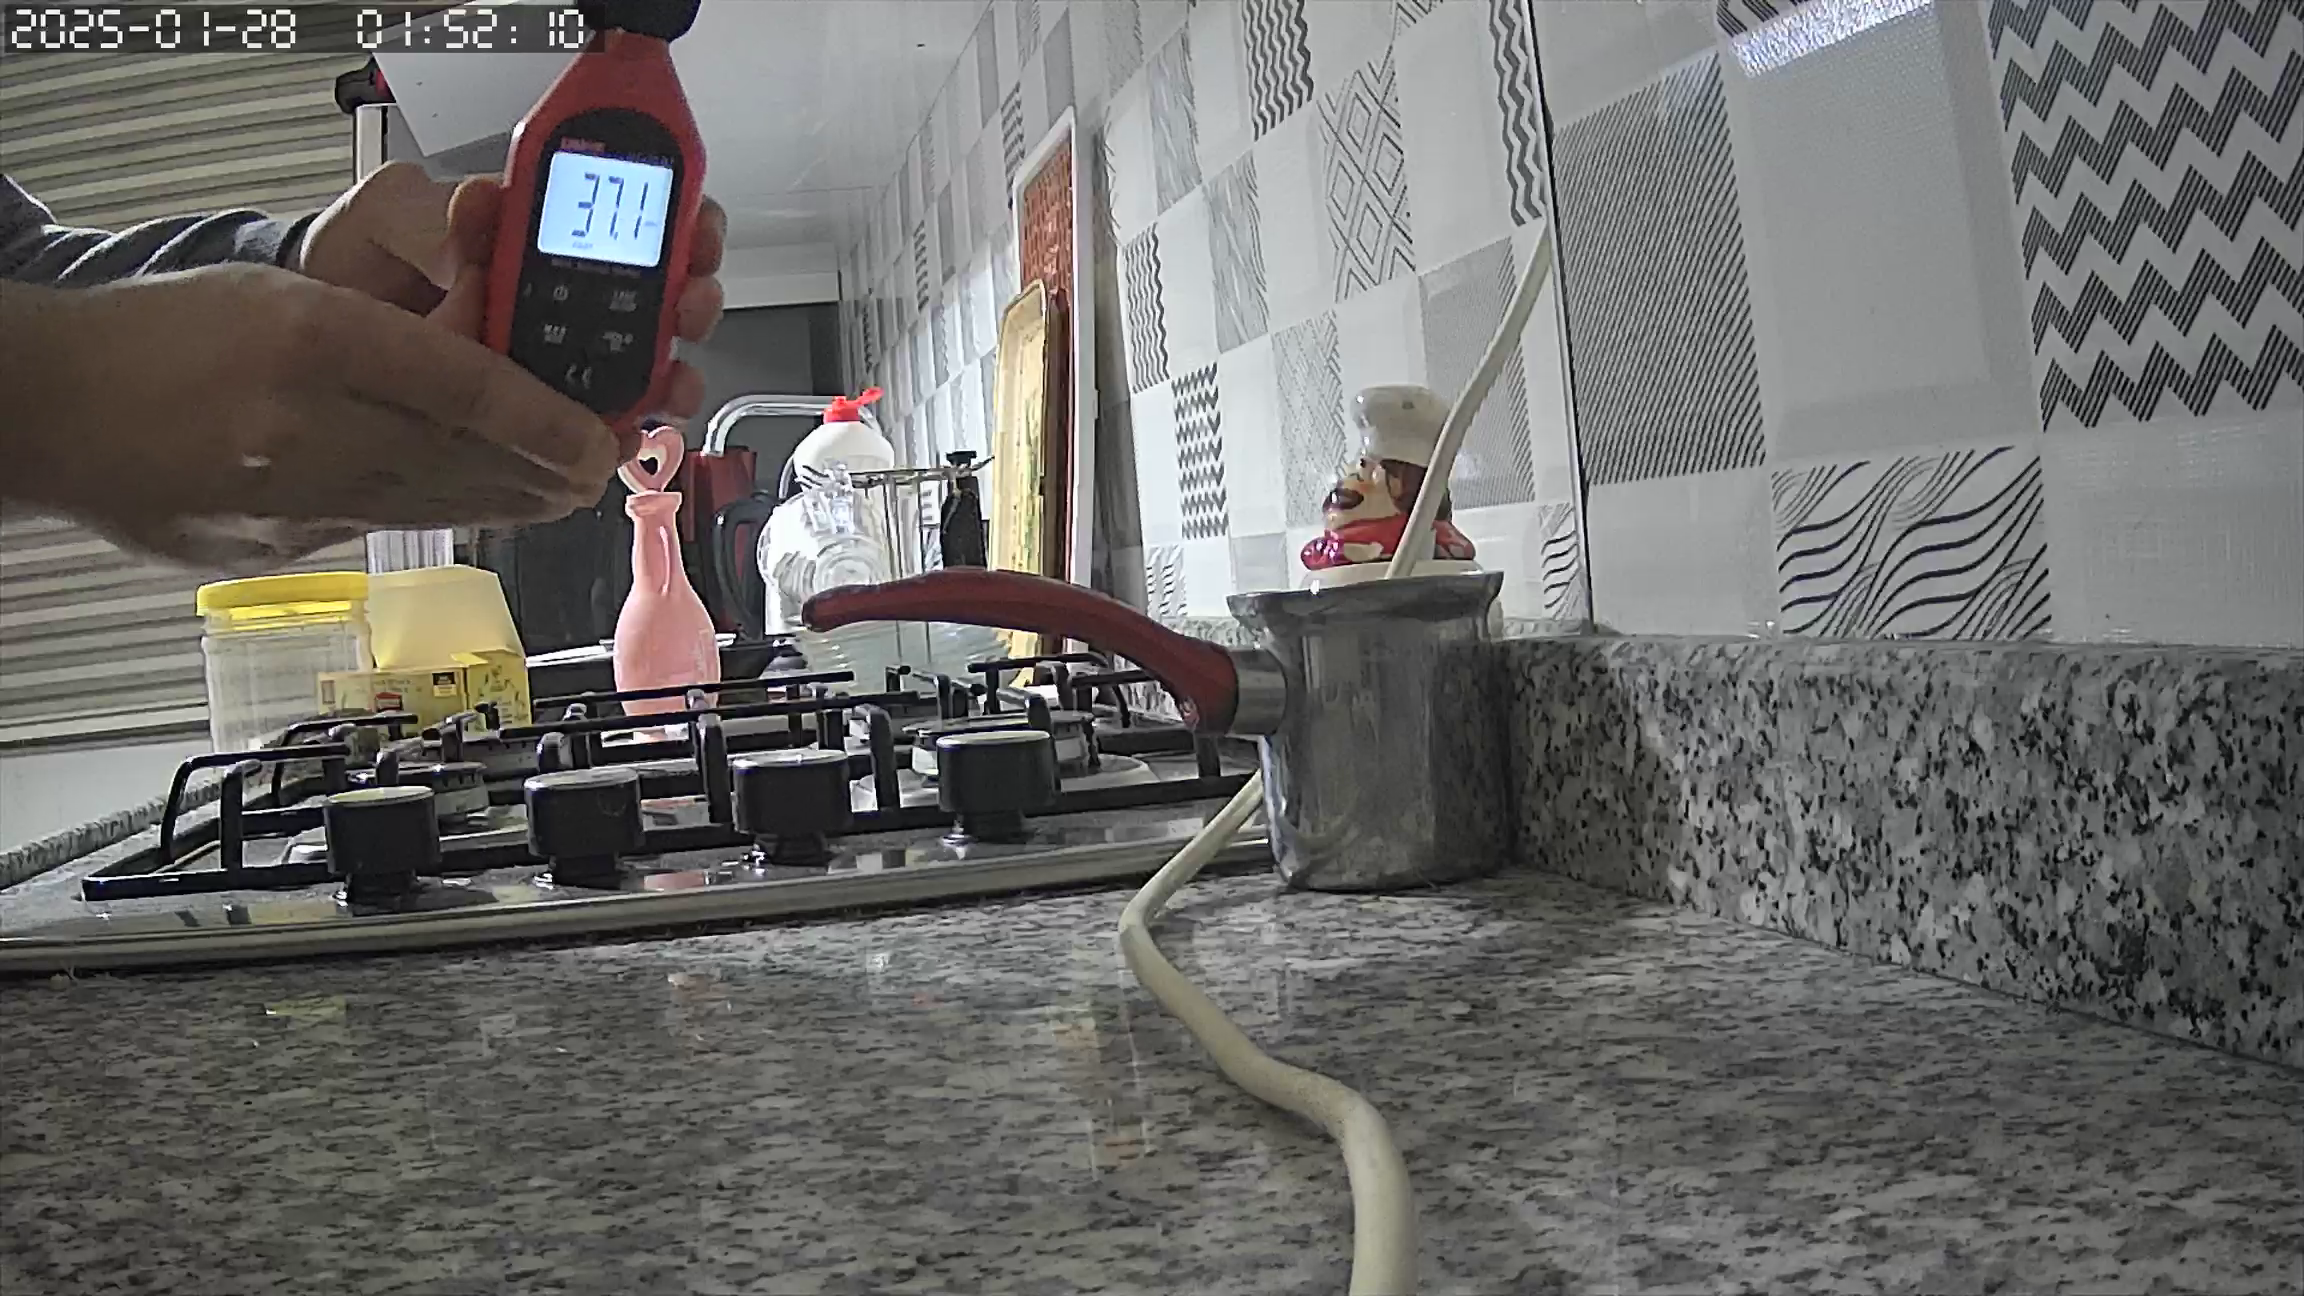screen: (538, 152, 676, 272)
